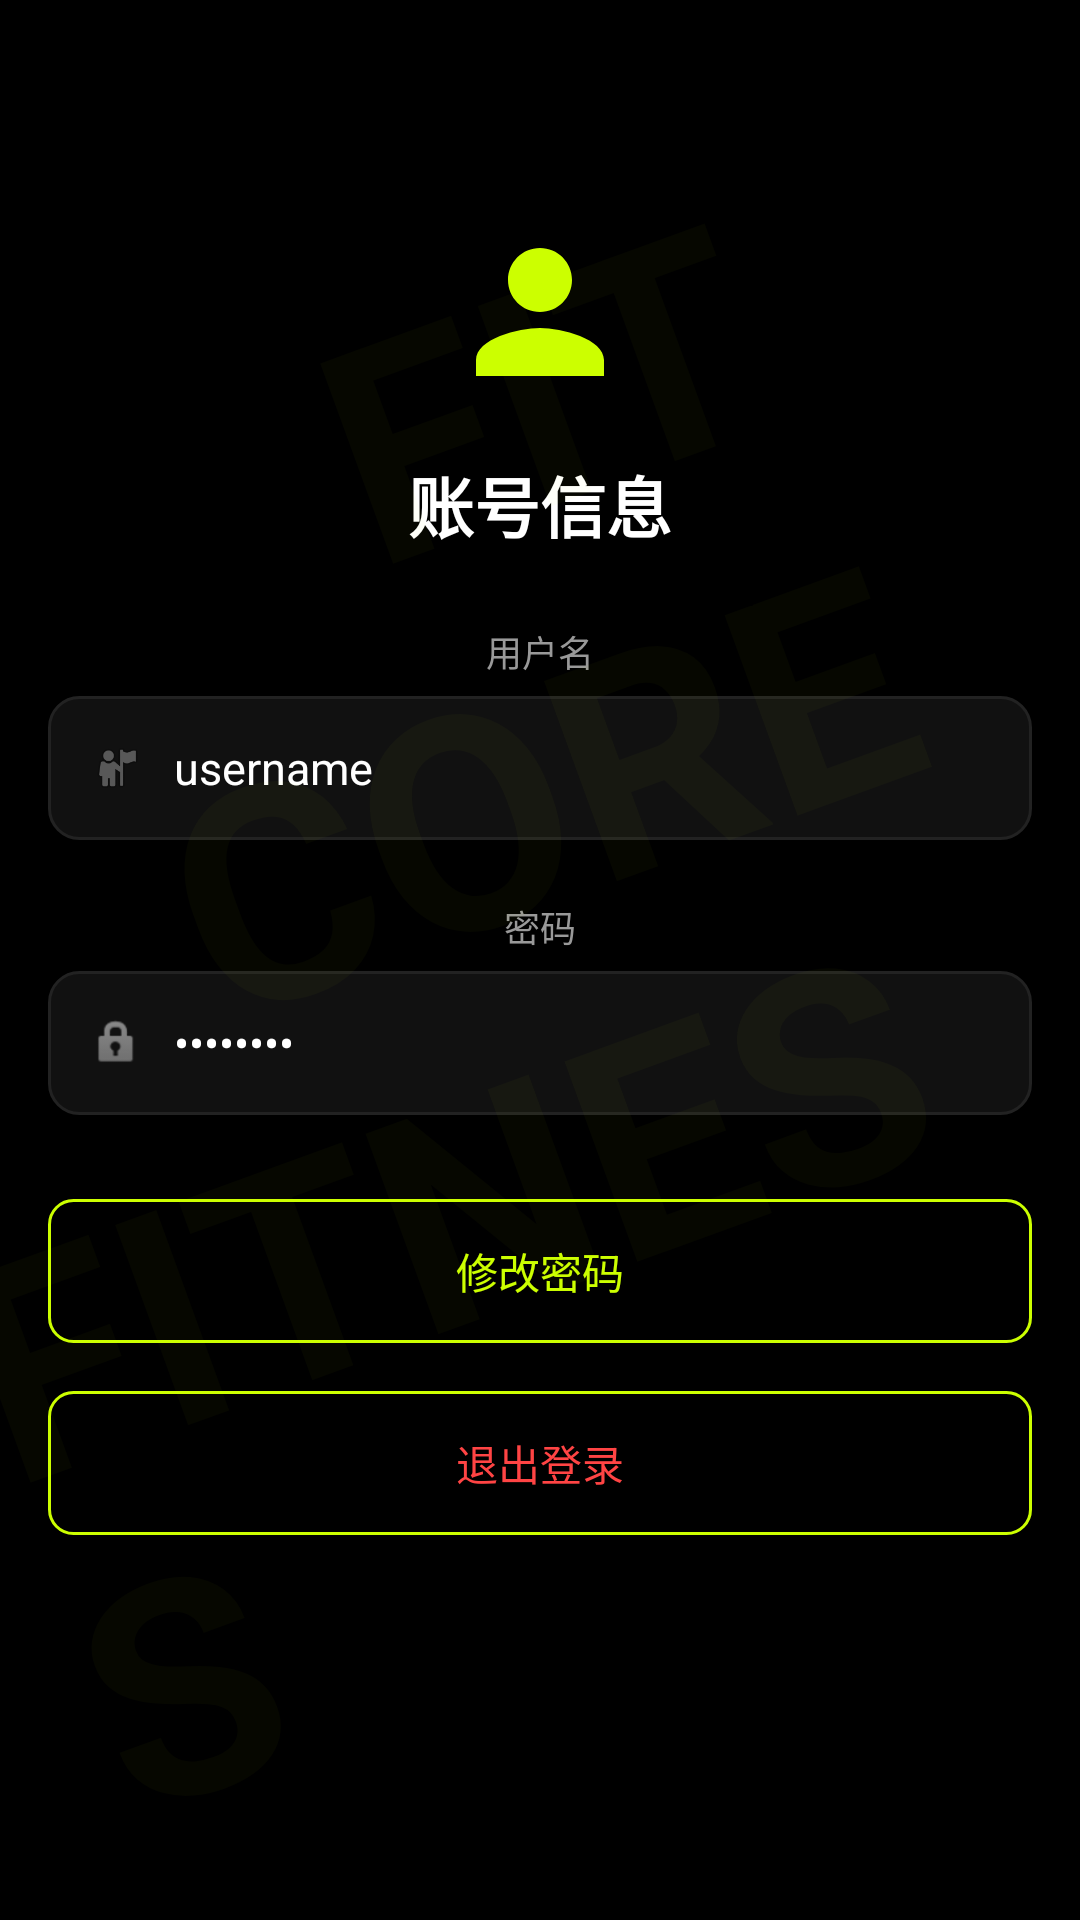

Where icons sit on this 1080×1920 app screen, as BBox(x1, y1, x2, y2):
lock idle: BBox(98, 1021, 133, 1062)
myplaces: BBox(99, 750, 136, 786)
